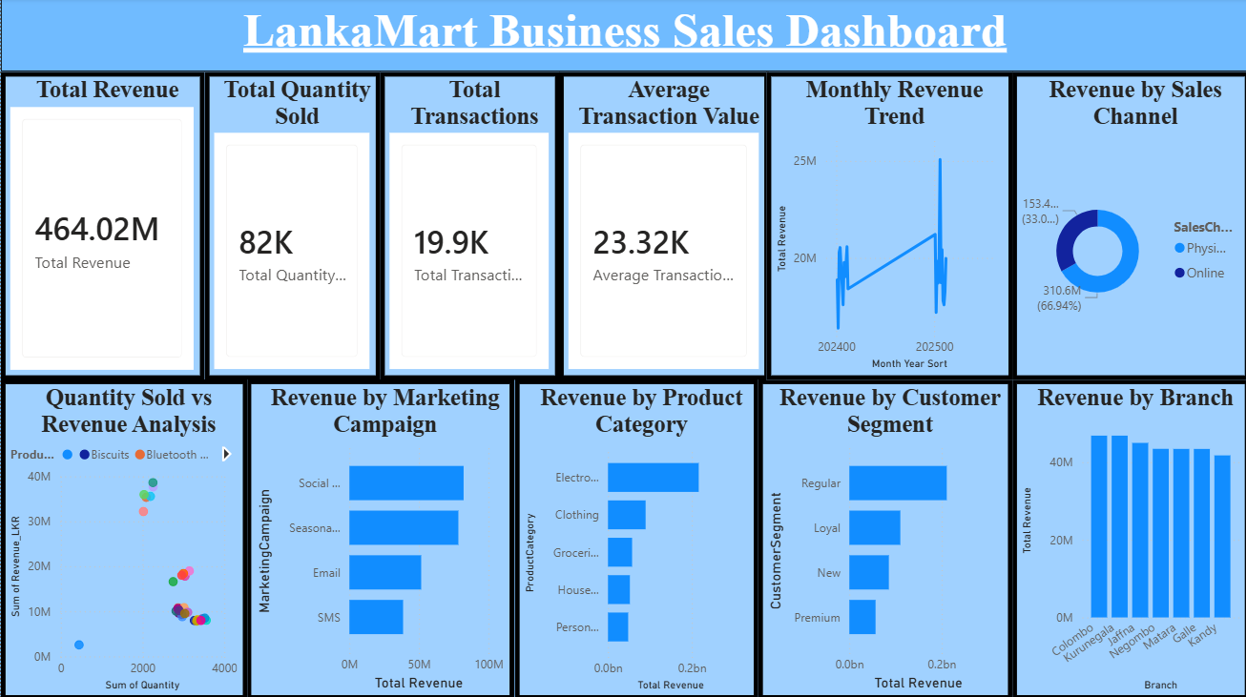

What the dashboard file says about the page in this screenshot:
{"tool":"powerbi","page":{"name":"Page 1","canvas":[1280,720],"ordinal":0},"visuals":[{"type":"cardVisual","title":"Total Revenue","fields":{"Data":["Cleaned_LankaMart_Dataset.Total Revenue"]},"box":[0,75.5,208.6,315.6],"z":0},{"type":"cardVisual","title":"Total Transactions","fields":{"Data":["Cleaned_LankaMart_Dataset.Total Transactions"]},"box":[388.3,75.5,183.9,315.6],"z":1000},{"type":"cardVisual","title":"Total Quantity Sold","fields":{"Data":["Cleaned_LankaMart_Dataset.Total Quantity Sold"]},"box":[208.6,75.5,179.8,315.6],"z":2000},{"type":"cardVisual","title":"Average Transaction Value","fields":{"Data":["Cleaned_LankaMart_Dataset.Average Transaction Value"]},"box":[572.2,75.5,215.4,315.6],"z":3000},{"type":"clusteredBarChart","title":"Revenue by Product Category","fields":{"Category":["Cleaned_LankaMart_Dataset.ProductCategory"],"Y":["Cleaned_LankaMart_Dataset.Total Revenue"]},"box":[526.9,391.1,249.7,329.3],"z":4000},{"type":"clusteredColumnChart","title":"Revenue by Branch","fields":{"Category":["Cleaned_LankaMart_Dataset.Branch"],"Y":["Cleaned_LankaMart_Dataset.Total Revenue"]},"box":[1037.4,391.1,242.9,329.3],"z":5000},{"type":"barChart","title":"Revenue by Customer Segment","fields":{"Category":["Cleaned_LankaMart_Dataset.CustomerSegment"],"Y":["Cleaned_LankaMart_Dataset.Total Revenue"]},"box":[776.7,391.1,260.7,329.3],"z":6000},{"type":"clusteredBarChart","title":"Revenue by Marketing Campaign","fields":{"Category":["Cleaned_LankaMart_Dataset.MarketingCampaign"],"Y":["Cleaned_LankaMart_Dataset.Total Revenue"]},"box":[251.9,391.3,275.1,328.9],"z":7000},{"type":"textbox","box":[0,0,1280.3,75.5],"z":8000},{"type":"donutChart","title":"Revenue by Sales Channel","fields":{"Category":["Cleaned_LankaMart_Dataset.SalesChannel"],"Y":["Cleaned_LankaMart_Dataset.Total Revenue"]},"box":[1037.4,75.5,242.9,315.6],"z":9000},{"type":"scatterChart","title":"Quantity Sold vs Revenue Analysis","fields":{"X":["Sum(Cleaned_LankaMart_Dataset.Quantity)"],"Y":["Sum(Cleaned_LankaMart_Dataset.Revenue_LKR)"],"Series":["Cleaned_LankaMart_Dataset.ProductName"]},"box":[0,391.1,252.5,329.3],"z":10000},{"type":"lineChart","title":"Monthly Revenue Trend","fields":{"Category":["Cleaned_LankaMart_Dataset.Month Year Sort"],"Y":["Cleaned_LankaMart_Dataset.Total Revenue"]},"box":[784.9,75.5,252.5,315.6],"z":11000}]}

Visuals, with their boxes in screenshot pixels (x1, y1, x2, y2), scaled from the page's 1280x720 canvas onto the 1246x697 screenshot:
"Total Revenue" cardVisual: Rect(0, 73, 203, 379)
"Total Transactions" cardVisual: Rect(378, 73, 557, 379)
"Total Quantity Sold" cardVisual: Rect(203, 73, 378, 379)
"Average Transaction Value" cardVisual: Rect(557, 73, 767, 379)
"Revenue by Product Category" clusteredBarChart: Rect(513, 379, 756, 696)
"Revenue by Branch" clusteredColumnChart: Rect(1010, 379, 1245, 696)
"Revenue by Customer Segment" barChart: Rect(756, 379, 1010, 696)
"Revenue by Marketing Campaign" clusteredBarChart: Rect(245, 379, 513, 696)
textbox: Rect(0, 0, 1245, 73)
"Revenue by Sales Channel" donutChart: Rect(1010, 73, 1245, 379)
"Quantity Sold vs Revenue Analysis" scatterChart: Rect(0, 379, 246, 696)
"Monthly Revenue Trend" lineChart: Rect(764, 73, 1010, 379)
